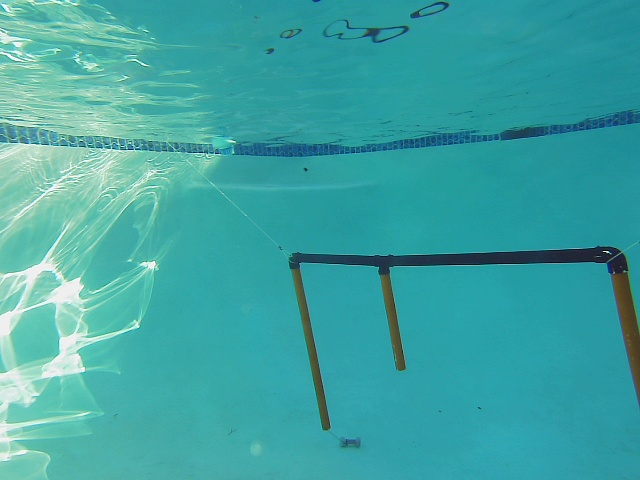Gate: (287, 262, 335, 434), (605, 262, 640, 398), (378, 268, 407, 382)
